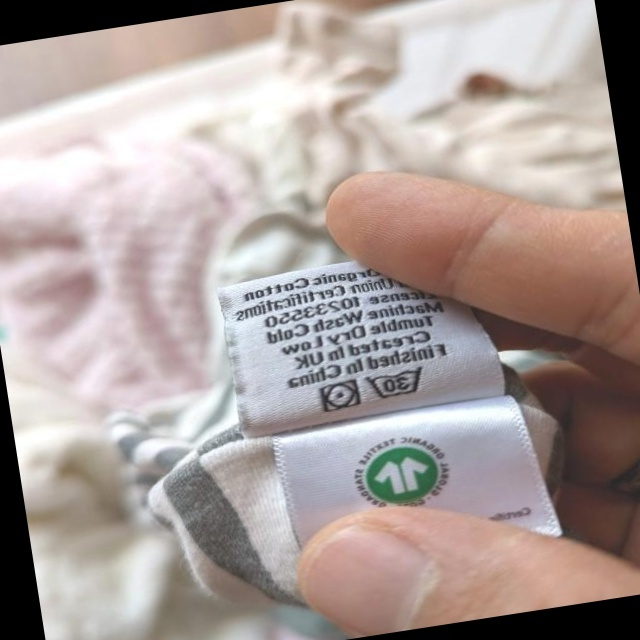30C: (362, 361, 432, 405)
tumble_dry_low: (315, 376, 364, 417)
